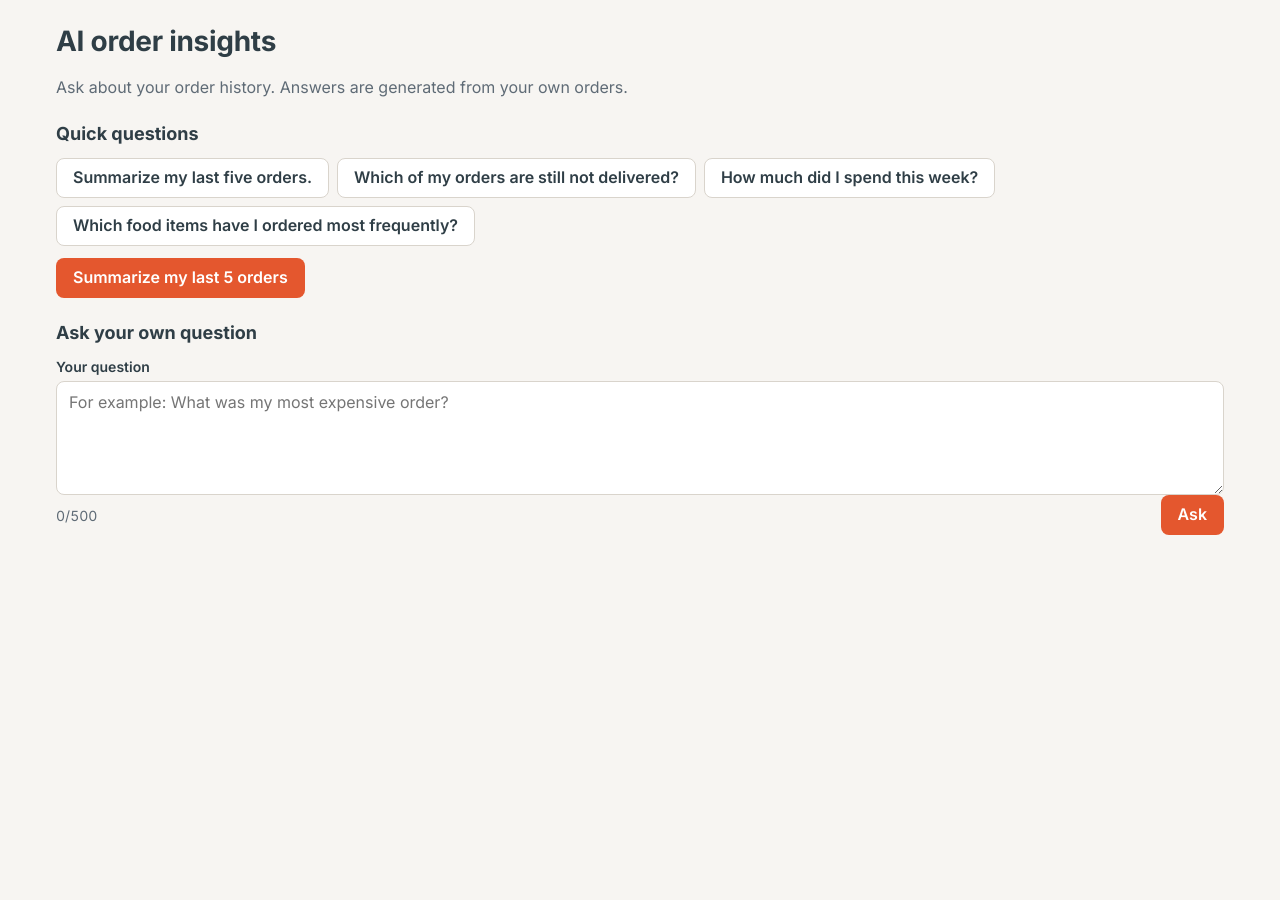
Test: AIInsights › shows the answer on success and sends the exact preset string
What coordinates should you click on to do the following:
click the button "Which of my orders are still not delivered?"
I would click on:
 (516, 178)
Its box is [337, 158, 696, 198].
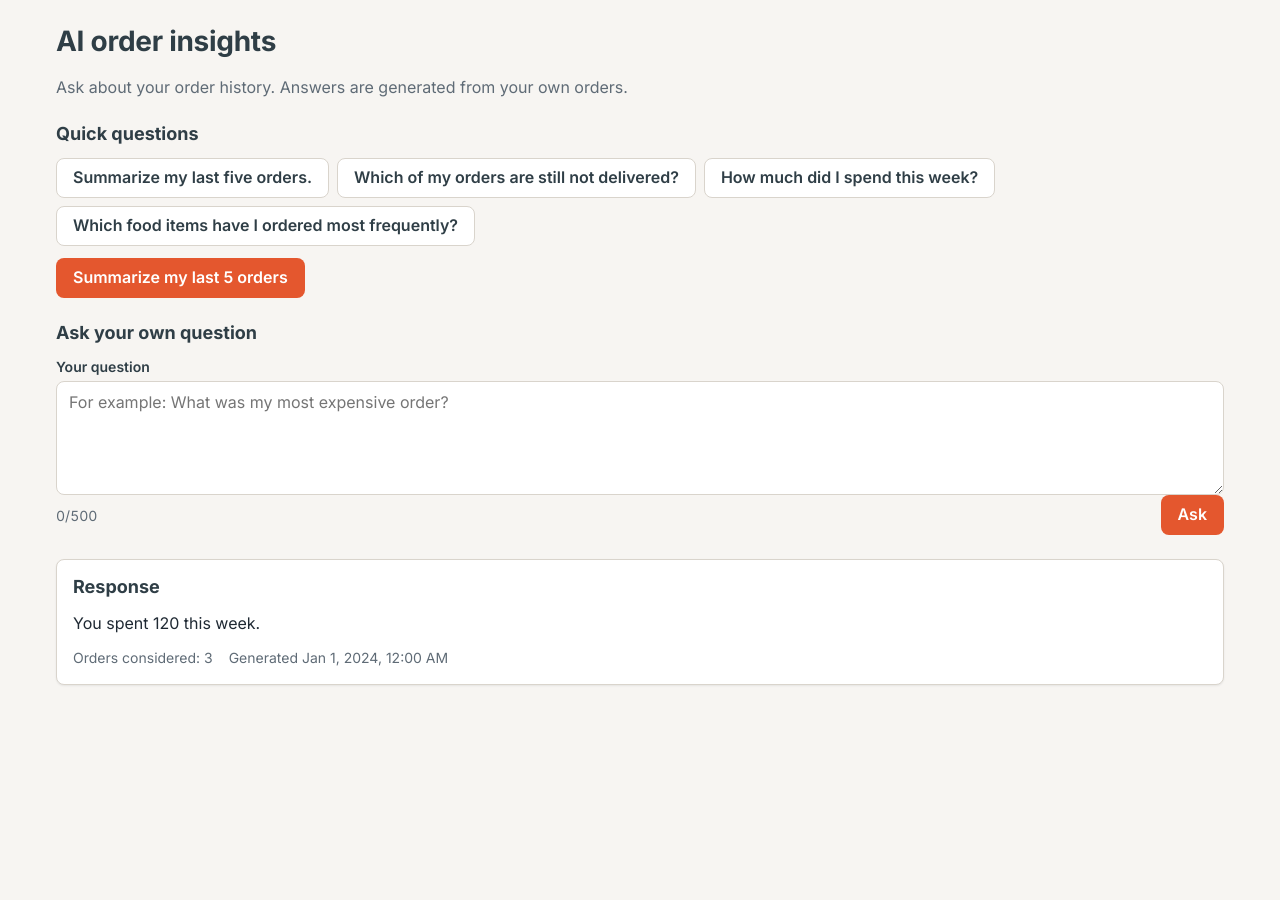
Expected: the text "You spent 120 this week." is shown, [73, 612, 260, 632]
